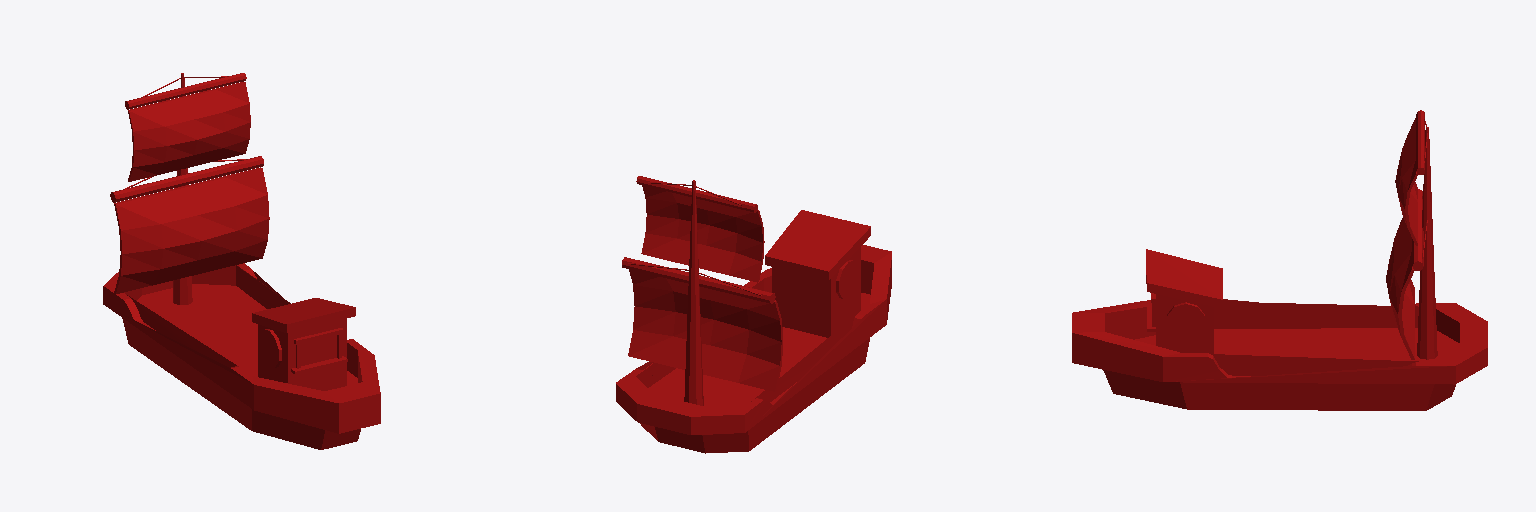
File: statek.obj
3 views of the same model, side by side, from view 1: azimuth 30°, elevation 25°; view 2: azimuth 150°, elevation 25°; view 3: azimuth 270°, elevation 25° (orthographic).
Visible parts, largest first — view 1: Box026; view 2: Box026; view 3: Box026.
Part boxes in pixels (x1,y1,x2,y2): Box026: (103,73,380,449); Box026: (616,176,891,453); Box026: (1072,110,1487,410).
Size of the model in its own units: 34.42 by 56.85 by 83.